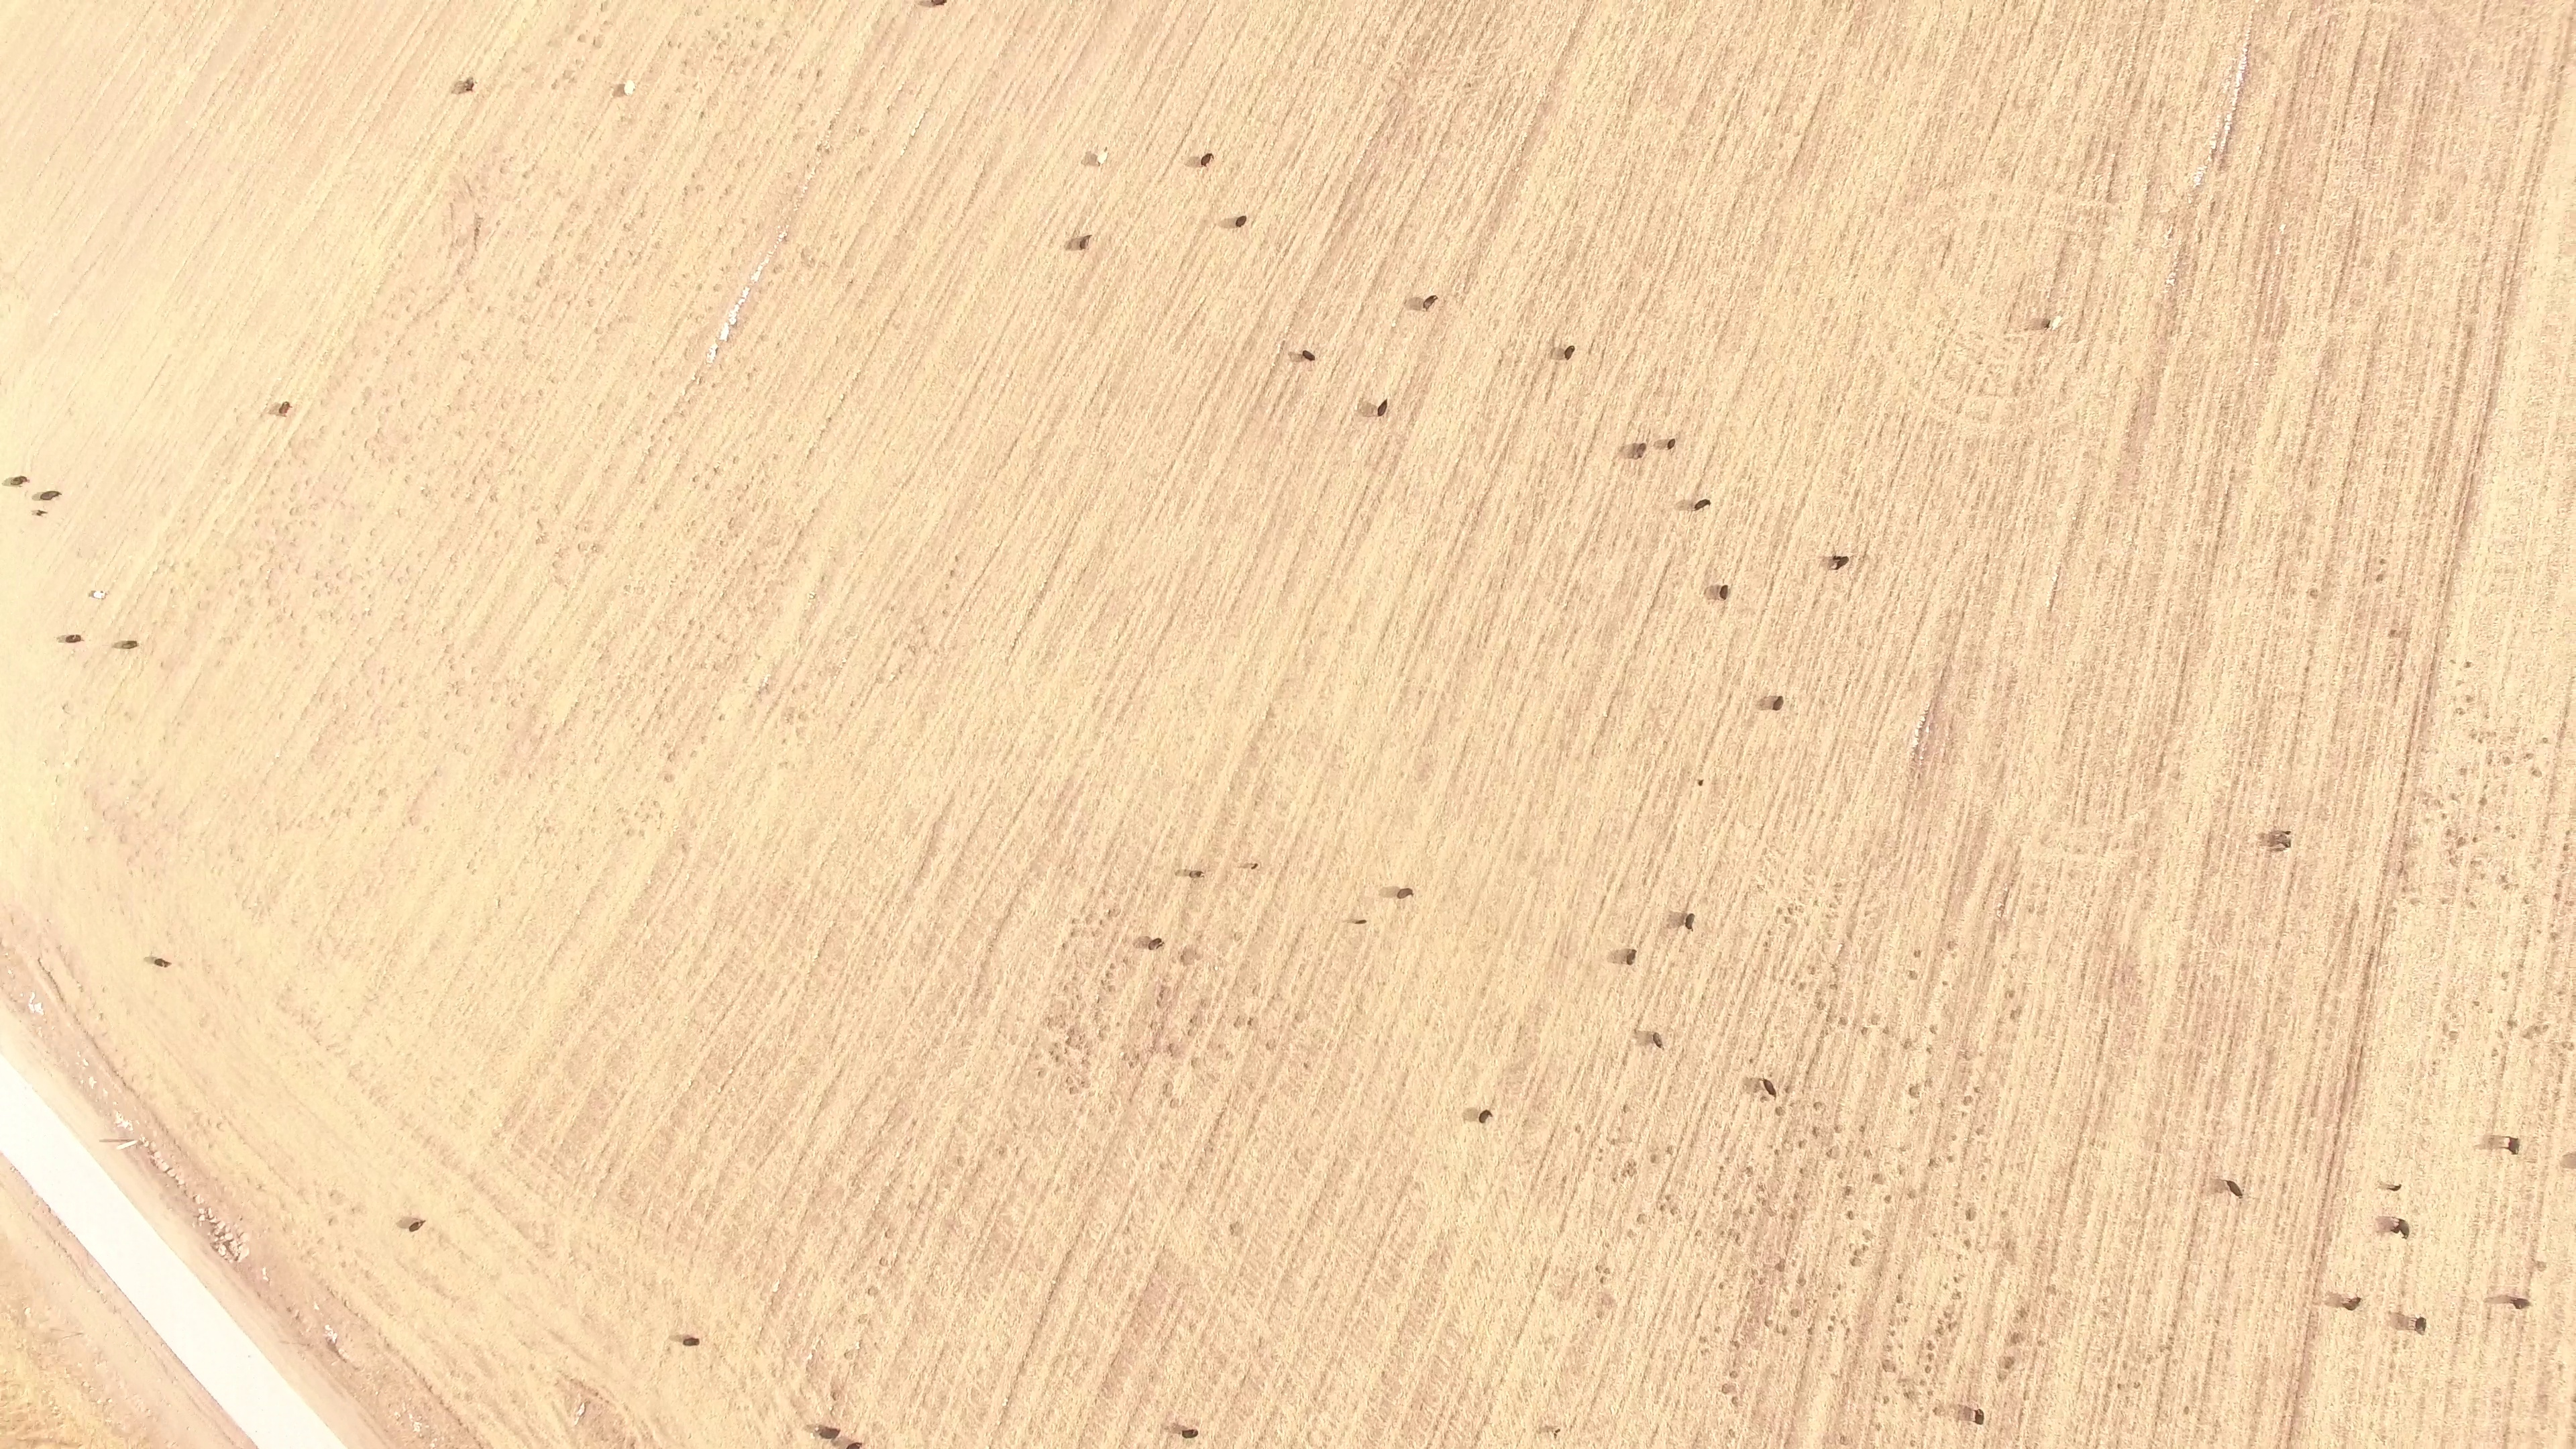sheep: (2392, 1213, 2413, 1242), (813, 1423, 843, 1442), (1628, 439, 1650, 464), (2224, 1175, 2246, 1201), (1826, 552, 1852, 574), (2341, 1291, 2364, 1314), (1143, 933, 1165, 956), (1680, 908, 1698, 934), (1474, 1106, 1495, 1128), (1759, 1075, 1780, 1099), (1648, 1029, 1668, 1052), (2043, 312, 2066, 332), (1969, 1403, 1988, 1430), (1713, 582, 1734, 604), (1417, 292, 1438, 314), (1393, 884, 1416, 904), (677, 1333, 703, 1350), (404, 1218, 427, 1235), (1621, 945, 1639, 969), (1690, 496, 1714, 513), (37, 487, 62, 504), (2508, 1295, 2534, 1313), (1768, 692, 1787, 714), (275, 398, 294, 419), (1075, 231, 1094, 254), (2411, 1314, 2430, 1337), (150, 953, 174, 971), (1560, 342, 1578, 364), (1093, 144, 1112, 168), (460, 74, 477, 97), (1177, 1426, 1201, 1442), (115, 637, 140, 653), (60, 632, 85, 647), (5, 473, 30, 489), (1196, 150, 1216, 170), (1374, 397, 1391, 420), (1298, 347, 1318, 364), (1232, 212, 1250, 231), (621, 78, 639, 98), (1186, 866, 1206, 883), (1663, 435, 1678, 452), (87, 588, 109, 602), (1352, 916, 1369, 928), (927, 1, 950, 9), (2388, 1182, 2404, 1195), (1250, 860, 1261, 871), (34, 507, 48, 519), (1695, 777, 1706, 789)
unknown: (2263, 827, 2294, 855), (2287, 1397, 2302, 1434), (2391, 1308, 2412, 1333), (2485, 1132, 2505, 1153), (2504, 1134, 2523, 1158), (2030, 315, 2053, 333), (2337, 1087, 2351, 1116), (1355, 400, 1377, 418), (2359, 969, 2372, 994), (2001, 1354, 2018, 1373), (324, 1338, 341, 1356), (2007, 1330, 2025, 1348), (1772, 1256, 1788, 1275), (1177, 946, 1192, 965), (2222, 121, 2238, 138), (1536, 1422, 1556, 1435), (1906, 1083, 1921, 1099), (219, 1237, 233, 1254), (2343, 1060, 2355, 1079), (2153, 758, 2166, 776), (2504, 1016, 2519, 1030), (2017, 1305, 2029, 1321), (206, 1219, 218, 1236), (2563, 1153, 2576, 1172), (1729, 1338, 1743, 1352), (1945, 1320, 1959, 1334), (1788, 1306, 1802, 1320), (1961, 1237, 1974, 1250), (1870, 1171, 1885, 1186), (1772, 1105, 1785, 1118), (2373, 571, 2387, 585), (209, 1239, 221, 1255), (1844, 1207, 1856, 1223), (1962, 1207, 1975, 1223), (2341, 1075, 2353, 1091), (1742, 1075, 1754, 1091), (2353, 1058, 2365, 1075), (1900, 1036, 1913, 1052), (2454, 834, 2467, 850), (2461, 498, 2472, 516), (2464, 324, 2475, 341), (2208, 146, 2219, 162), (581, 1397, 594, 1410), (1933, 1325, 1947, 1338), (1941, 1309, 1955, 1322), (2531, 1258, 2544, 1271), (2308, 1246, 2319, 1260), (1905, 1187, 1918, 1201), (1841, 1185, 1855, 1199), (147, 1156, 160, 1170), (1648, 1152, 1660, 1167), (2521, 1027, 2534, 1042), (2007, 1008, 2019, 1023), (1906, 967, 1919, 981), (2363, 957, 2375, 972), (2551, 890, 2563, 904), (2400, 839, 2413, 851), (2476, 794, 2490, 809), (2501, 754, 2514, 767), (1911, 744, 1923, 757), (2463, 692, 2475, 705), (2386, 627, 2398, 640), (2455, 527, 2468, 541), (2457, 516, 2470, 530), (2486, 386, 2498, 400), (471, 225, 482, 239), (2326, 1153, 2338, 1170), (1809, 1124, 1820, 1139), (2423, 682, 2435, 698), (1923, 1340, 1936, 1353), (1227, 1221, 1239, 1233), (1786, 1211, 1800, 1223), (146, 1147, 158, 1159), (134, 1138, 146, 1149), (2330, 1131, 2343, 1143), (1782, 1082, 1794, 1095), (1065, 1026, 1078, 1038), (1911, 949, 1924, 961), (1241, 861, 1252, 871), (2428, 659, 2439, 671), (2377, 556, 2388, 568), (2477, 431, 2489, 443), (719, 327, 731, 340), (2181, 1403, 2192, 1417), (1893, 1292, 1903, 1306), (1848, 1255, 1859, 1269), (1926, 1156, 1937, 1169), (1758, 1093, 1770, 1104), (1880, 1026, 1892, 1037), (2440, 1021, 2451, 1035), (2006, 987, 2017, 1001), (2395, 864, 2407, 877), (2441, 590, 2453, 605), (2460, 347, 2471, 361), (30, 1436, 40, 1448), (1900, 1389, 1913, 1400), (829, 1387, 841, 1399), (2295, 1374, 2306, 1387), (1016, 1364, 1027, 1375), (1879, 1360, 1890, 1373), (1805, 1325, 1815, 1338), (1825, 1323, 1836, 1334), (2169, 1319, 2180, 1330), (1953, 1289, 1964, 1300), (2002, 1240, 2012, 1252), (2324, 1232, 2335, 1245), (215, 1229, 228, 1240), (1998, 1208, 2010, 1218), (1667, 1205, 1678, 1217), (1657, 1202, 1668, 1214), (1882, 1193, 1894, 1204), (1662, 1191, 1674, 1203), (1835, 1170, 1845, 1181), (1744, 1164, 1754, 1177), (1717, 1163, 1727, 1175), (1795, 1138, 1806, 1150), (1607, 1138, 1618, 1148), (1858, 1123, 1868, 1135), (1810, 1099, 1821, 1111), (2555, 1073, 2565, 1084), (1164, 1042, 1175, 1054), (2347, 1042, 2358, 1055), (2096, 1036, 2107, 1046), (1063, 1035, 1075, 1048), (2447, 1031, 2458, 1043), (2531, 1023, 2543, 1036), (2540, 1022, 2551, 1032), (1837, 1016, 1847, 1028), (1154, 998, 1164, 1010), (1827, 981, 1837, 992), (1944, 940, 1954, 951), (1987, 935, 1998, 946), (2548, 932, 2560, 943), (1843, 930, 1855, 943), (1067, 928, 1079, 940), (2371, 910, 2381, 922), (2349, 905, 2361, 916), (2373, 901, 2383, 912), (2468, 900, 2478, 910), (2498, 872, 2509, 885), (2447, 855, 2458, 867), (2560, 842, 2571, 854), (2469, 834, 2480, 846), (2257, 830, 2267, 842), (2444, 826, 2455, 839), (2231, 777, 2241, 788), (2457, 765, 2470, 776), (2523, 750, 2535, 760), (1921, 747, 1931, 759), (2557, 728, 2567, 739), (1926, 720, 1937, 733), (2463, 659, 2474, 671), (2212, 542, 2222, 553), (2465, 488, 2475, 501), (2485, 397, 2495, 408), (2493, 354, 2503, 366), (2262, 324, 2273, 336), (2109, 161, 2121, 171), (822, 146, 833, 156), (2284, 1434, 2294, 1445), (1931, 1405, 1941, 1415), (1729, 1393, 1739, 1404), (1925, 1388, 1936, 1398), (1721, 1385, 1733, 1397), (2114, 1381, 2125, 1393), (1726, 1369, 1737, 1379), (2297, 1360, 2307, 1371), (2120, 1360, 2130, 1371), (2164, 1342, 2175, 1354), (2035, 1338, 2046, 1348), (1779, 1326, 1790, 1338), (1827, 1313, 1838, 1324), (292, 1313, 303, 1323), (1594, 1311, 1604, 1321), (284, 1305, 294, 1315), (2100, 1295, 2110, 1305), (2043, 1283, 2054, 1294), (1716, 1281, 1726, 1292), (1756, 1277, 1766, 1287), (1795, 1275, 1807, 1287), (1597, 1275, 1607, 1286), (1894, 1271, 1905, 1283), (1759, 1197, 1769, 1208), (1790, 1191, 1801, 1202), (1721, 1191, 1731, 1202), (1183, 1185, 1193, 1195), (1796, 1167, 1807, 1177), (1625, 1160, 1635, 1171), (2070, 1155, 2081, 1167), (1664, 1146, 1674, 1157), (1974, 1126, 1985, 1136), (1620, 1102, 1631, 1112), (1701, 1100, 1711, 1110), (1960, 1097, 1970, 1108), (1971, 1084, 1981, 1095), (1067, 1084, 1077, 1095), (2352, 1075, 2362, 1087), (1803, 1067, 1813, 1077), (1300, 1060, 1311, 1070), (1746, 1056, 1756, 1067), (1053, 1053, 1063, 1063), (2265, 1049, 2275, 1059), (1927, 1024, 1937, 1035), (1860, 1024, 1870, 1034), (1244, 1018, 1254, 1028), (1291, 1012, 1301, 1022), (2471, 998, 2483, 1009), (1105, 983, 1115, 993), (1796, 981, 1807, 992), (1939, 978, 1949, 988), (2118, 973, 2128, 984), (2078, 971, 2088, 982), (1830, 965, 1840, 975), (2516, 961, 2526, 971), (1059, 941, 1070, 952), (1774, 906, 1784, 917), (2399, 885, 2409, 896), (2555, 877, 2565, 888), (2477, 871, 2487, 881), (2205, 833, 2215, 843), (2492, 822, 2503, 833), (2399, 769, 2410, 781), (2529, 768, 2539, 779), (2403, 747, 2414, 757), (2475, 736, 2485, 746), (2468, 731, 2478, 741), (1915, 724, 1927, 735), (2171, 708, 2181, 718), (1263, 708, 1274, 719), (2412, 698, 2422, 708), (1936, 678, 1946, 688), (1939, 665, 1949, 676), (2302, 664, 2312, 675), (2180, 653, 2191, 663), (2431, 645, 2442, 656), (1025, 608, 1035, 619), (2047, 596, 2057, 606), (2309, 591, 2320, 602), (2445, 579, 2455, 589), (2437, 577, 2448, 588), (947, 567, 958, 578), (1982, 552, 1992, 562), (2304, 420, 2314, 430), (2129, 414, 2139, 424), (2130, 406, 2140, 416), (2026, 377, 2036, 387), (1286, 349, 1296, 359), (2495, 302, 2505, 313), (2349, 217, 2359, 227), (2218, 156, 2229, 167), (2155, 101, 2165, 111), (2123, 80, 2133, 91), (2240, 70, 2250, 81), (2292, 1387, 2302, 1400), (1731, 1207, 1741, 1219), (2351, 1085, 2361, 1096), (1807, 967, 1818, 977), (2337, 494, 2347, 506), (1782, 1438, 1792, 1448), (2536, 1392, 2546, 1402), (1746, 1316, 1756, 1326), (1592, 1263, 1602, 1273), (1540, 1263, 1550, 1274), (1063, 1250, 1073, 1262), (2061, 1187, 2072, 1197), (1945, 1153, 1955, 1165), (1861, 1148, 1871, 1159), (1596, 1146, 1606, 1156), (1831, 1123, 1841, 1133), (1907, 1107, 1917, 1118), (1126, 1060, 1136, 1070), (1619, 1057, 1629, 1067), (1960, 1051, 1970, 1061), (1823, 1012, 1833, 1022), (1157, 991, 1167, 1001), (2555, 988, 2565, 998), (2367, 946, 2377, 956), (2462, 885, 2472, 895), (2502, 882, 2512, 892), (2448, 792, 2458, 802), (376, 787, 386, 797), (2559, 720, 2569, 731), (1851, 490, 1862, 500), (2228, 466, 2238, 476), (730, 321, 741, 331), (2501, 264, 2511, 274), (2208, 199, 2218, 209), (2144, 182, 2154, 192), (2206, 1349, 2216, 1359), (1887, 1328, 1897, 1338), (1843, 1326, 1853, 1336), (1834, 1282, 1844, 1292), (231, 1254, 241, 1264), (1850, 1248, 1860, 1258), (180, 1188, 190, 1198), (1107, 962, 1117, 972), (2567, 898, 2576, 908), (2409, 716, 2419, 726), (2571, 991, 2576, 1004), (2500, 1443, 2510, 1449), (2571, 1393, 2576, 1405)
